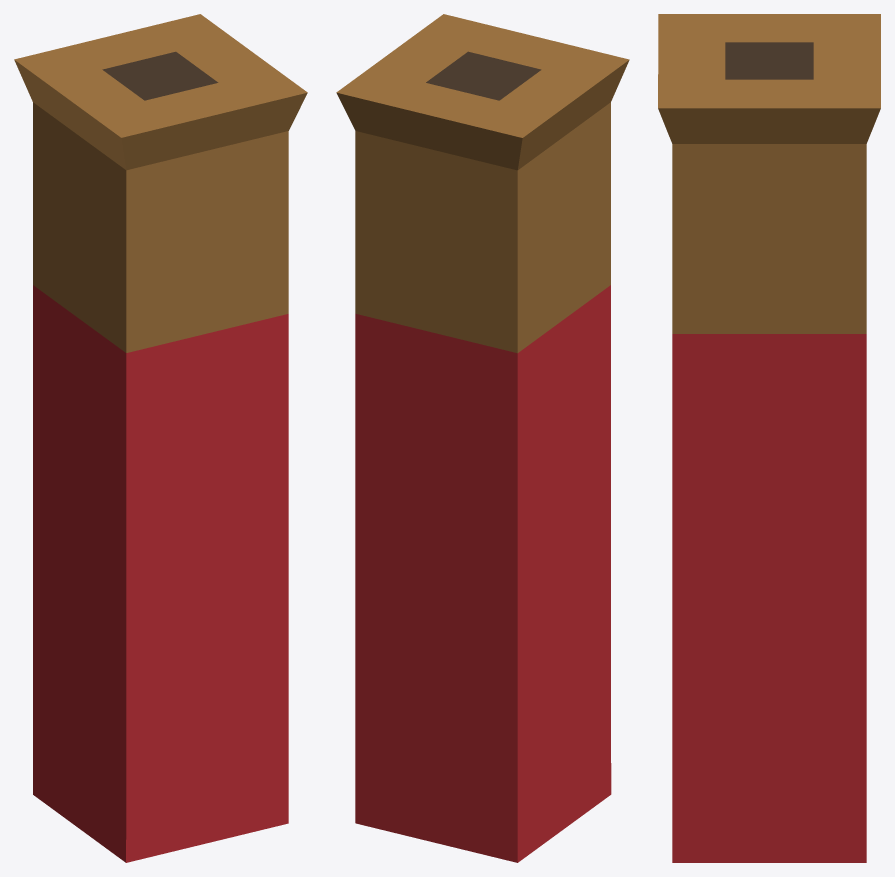
Rendered from weapons_shotgun-bullet.fbx.
The picture shows the model from 3 angles, left to right: view 1: azimuth 30°, elevation 25°; view 2: azimuth 150°, elevation 25°; view 3: azimuth 270°, elevation 25°; orthographic projection. The views are drawn at different scales.
Parts seen in each view (by area): view 1: weapons_shotgun_bullet; view 2: weapons_shotgun_bullet; view 3: weapons_shotgun_bullet.
Part boxes in pixels (box(x1,y1,x2,y2)): weapons_shotgun_bullet: box(14, 14, 307, 862); weapons_shotgun_bullet: box(336, 14, 629, 862); weapons_shotgun_bullet: box(658, 14, 880, 862).
Bounding box in the file's own units: 53.24 × 200 × 53.13.
